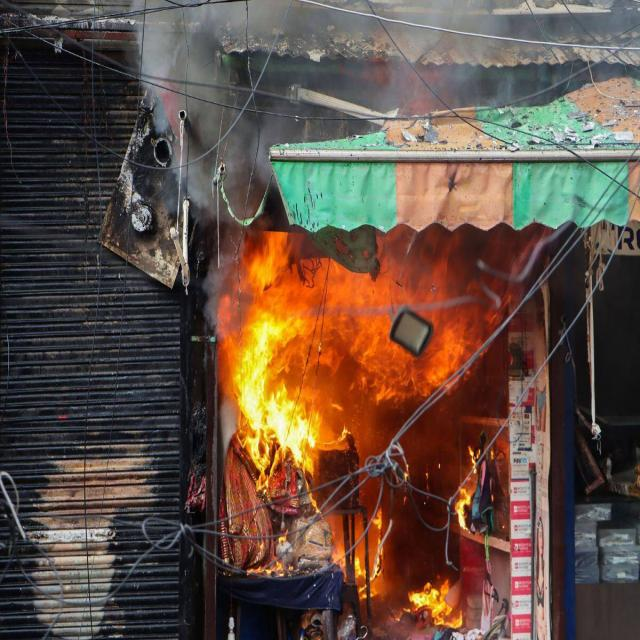fire: (215, 225, 513, 495), (406, 578, 464, 630), (353, 505, 383, 592)
